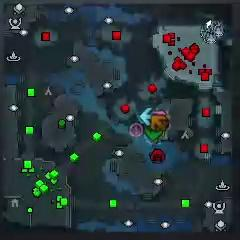Other: (130, 123, 143, 137)
x1: (151, 109, 167, 117)
x3: (140, 106, 152, 127)
x4: (144, 128, 164, 141)
x5: (151, 114, 168, 129)
